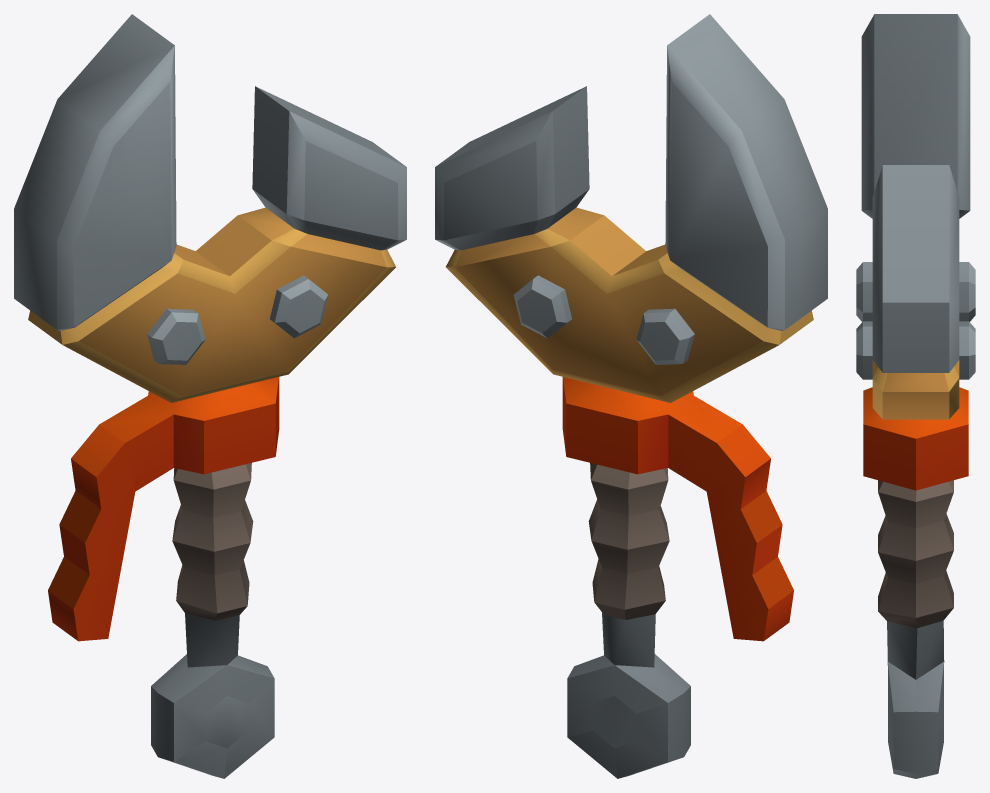
Rendered from engineer_Wrench.gltf.
3 renders of one model, left to right at view 1: azimuth 30°, elevation 25°; view 2: azimuth 150°, elevation 25°; view 3: azimuth 270°, elevation 25°, orthographic. The views are drawn at different scales.
Visible parts, largest first — view 1: engineer_Wrench; view 2: engineer_Wrench; view 3: engineer_Wrench.
Boxes of the visible parts, x1=… form: engineer_Wrench: x1=14, y1=14, x2=406, y2=778; engineer_Wrench: x1=435, y1=14, x2=827, y2=778; engineer_Wrench: x1=856, y1=14, x2=975, y2=778.
Bounding box in the file's own units: 0.7189 × 1.47 × 0.2168.
Materials: 1 (1 with a texture image).
